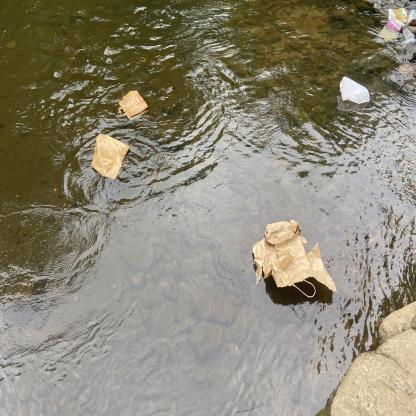trash: (250, 216, 339, 304), (90, 130, 132, 184), (115, 87, 150, 124), (338, 74, 372, 107), (376, 15, 404, 44), (386, 6, 408, 27), (402, 27, 416, 43), (407, 8, 416, 26), (401, 38, 416, 47)
